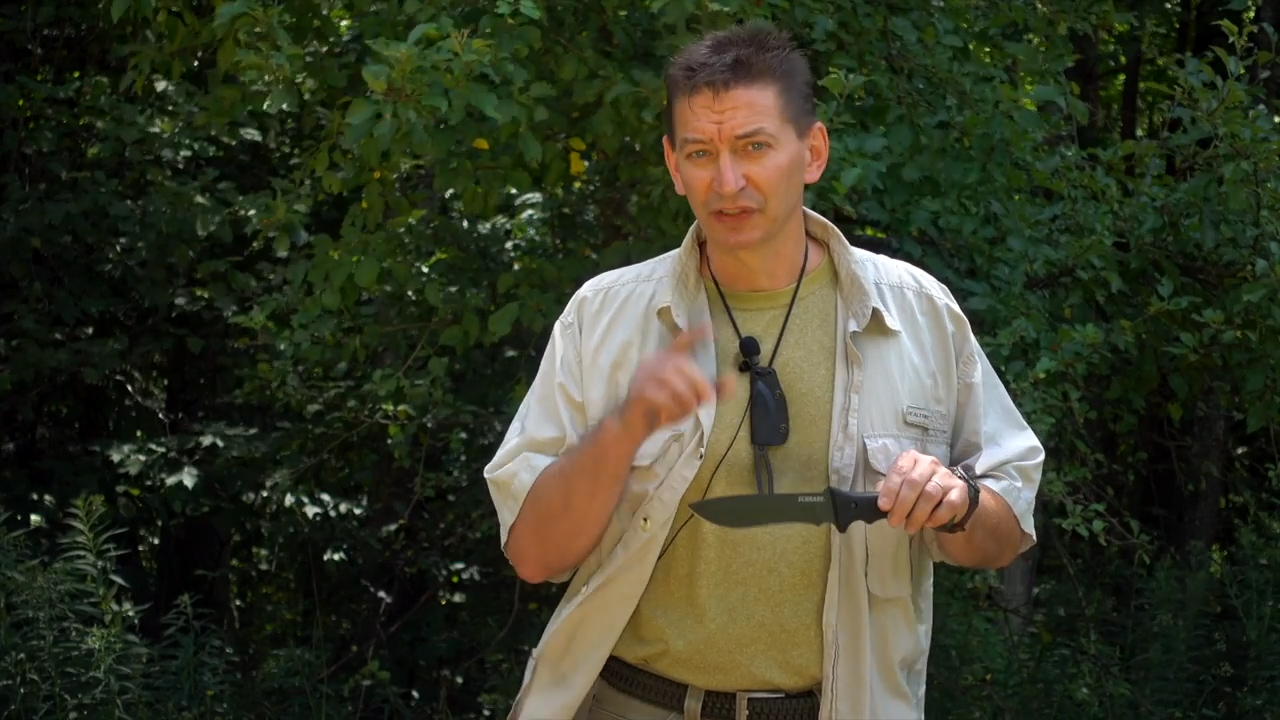knife: (679, 446, 952, 539)
